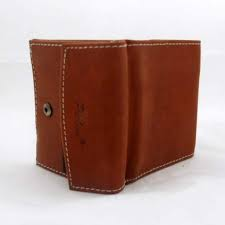monedero: (29, 38, 202, 195)
